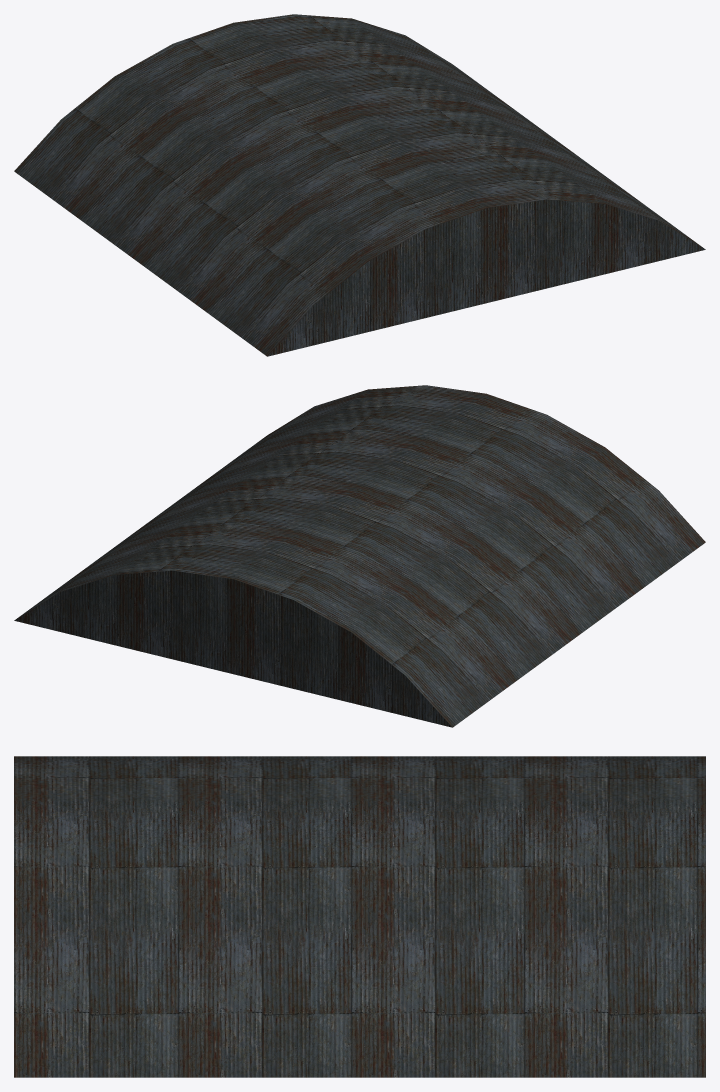
The model's file is warehouse_hs_1_roof_1.dae.
The picture shows the model from 3 angles, top to bottom: view 1: azimuth 30°, elevation 25°; view 2: azimuth 150°, elevation 25°; view 3: azimuth 270°, elevation 25°; orthographic projection. The views are drawn at different scales.
Visible parts, largest first — view 1: warehouse_hs_1_roof_1; view 2: warehouse_hs_1_roof_1; view 3: warehouse_hs_1_roof_1.
Boxes of the visible parts, x1,y1,x2,y2 form: warehouse_hs_1_roof_1: (14, 14, 705, 356); warehouse_hs_1_roof_1: (14, 385, 705, 727); warehouse_hs_1_roof_1: (14, 756, 705, 1077).
Bounding box in the file's own units: 8 × 8 × 1.66.
2 materials, 2 textured.
